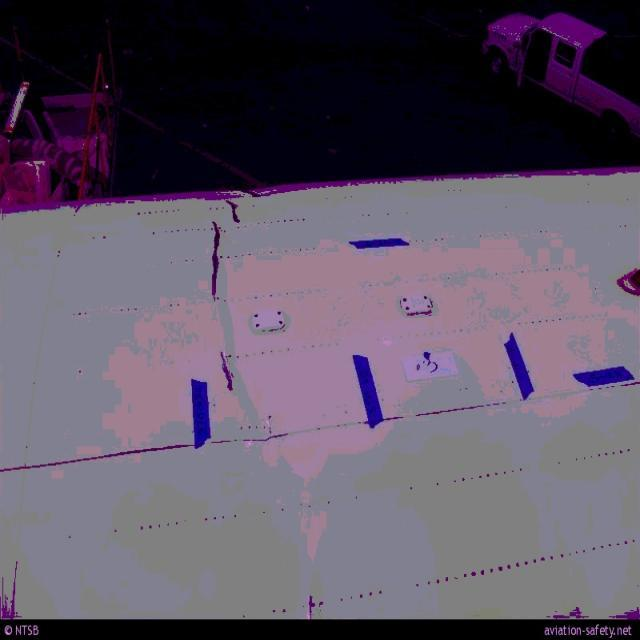crack: (207, 217, 225, 301), (213, 349, 236, 397), (224, 196, 244, 225)
